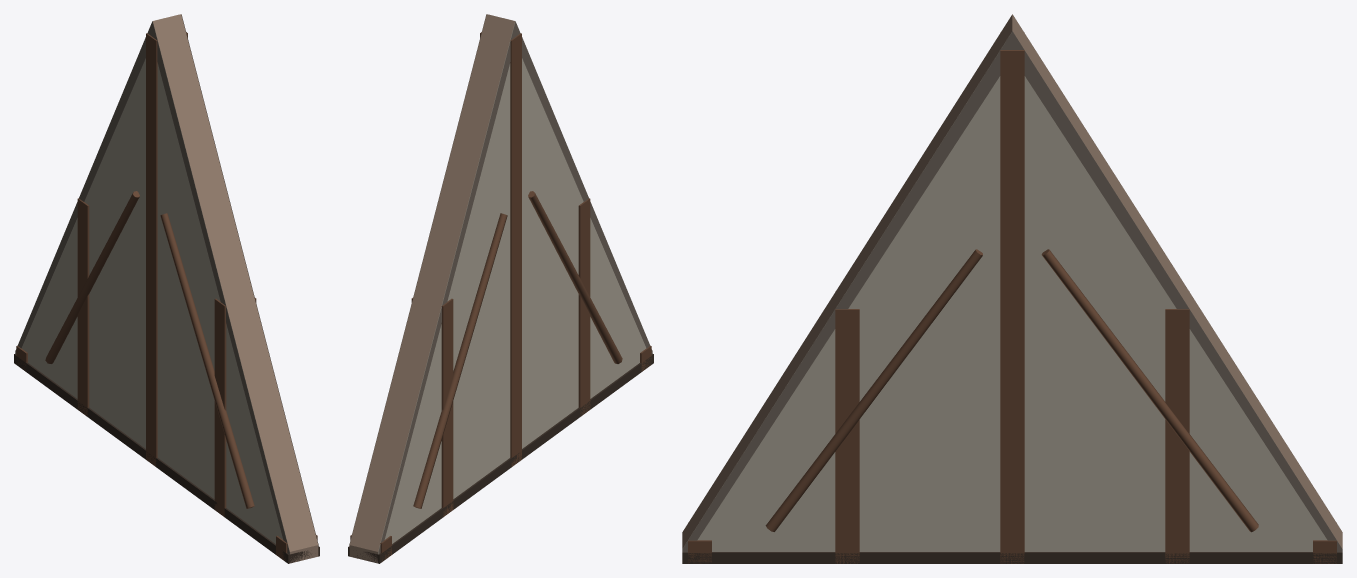
File: Wall_GableRidgeFill_60_Left.glb
3 renders of one model, left to right at view 1: azimuth 30°, elevation 25°; view 2: azimuth 150°, elevation 25°; view 3: azimuth 270°, elevation 25°, orthographic. The views are drawn at different scales.
Parts seen in each view (by area): view 1: _MeshInstance3D_4047, _MeshInstance3D_4051, _MeshInstance3D_4048, _MeshInstance3D_4056, _MeshInstance3D_4050, _MeshInstance3D_4052, _MeshInstance3D_4054; view 2: _MeshInstance3D_4047, _MeshInstance3D_4051, _MeshInstance3D_4048, _MeshInstance3D_4054, _MeshInstance3D_4052, _MeshInstance3D_4050, _MeshInstance3D_4056; view 3: _MeshInstance3D_4047, _MeshInstance3D_4051, _MeshInstance3D_4048, _MeshInstance3D_4052, _MeshInstance3D_4050, _MeshInstance3D_4057, _MeshInstance3D_4055.
Part boxes in pixels (left/top/right/bottom): _MeshInstance3D_4047: left=15, top=14, right=318, bottom=563; _MeshInstance3D_4051: left=146, top=32, right=187, bottom=466; _MeshInstance3D_4048: left=14, top=354, right=319, bottom=563; _MeshInstance3D_4056: left=160, top=213, right=254, bottom=508; _MeshInstance3D_4050: left=77, top=198, right=89, bottom=416; _MeshInstance3D_4052: left=214, top=298, right=256, bottom=516; _MeshInstance3D_4054: left=45, top=191, right=139, bottom=363; _MeshInstance3D_4047: left=349, top=14, right=652, bottom=563; _MeshInstance3D_4051: left=480, top=32, right=521, bottom=466; _MeshInstance3D_4048: left=348, top=354, right=653, bottom=563; _MeshInstance3D_4054: left=413, top=213, right=507, bottom=508; _MeshInstance3D_4052: left=578, top=198, right=590, bottom=416; _MeshInstance3D_4050: left=411, top=298, right=453, bottom=516; _MeshInstance3D_4056: left=528, top=191, right=622, bottom=363; _MeshInstance3D_4047: left=682, top=14, right=1342, bottom=552; _MeshInstance3D_4051: left=1000, top=32, right=1024, bottom=563; _MeshInstance3D_4048: left=682, top=552, right=1342, bottom=563; _MeshInstance3D_4052: left=835, top=291, right=859, bottom=563; _MeshInstance3D_4050: left=1165, top=291, right=1189, bottom=563; _MeshInstance3D_4057: left=765, top=249, right=982, bottom=531; _MeshInstance3D_4055: left=1041, top=249, right=1258, bottom=532.
Size of the model in its own units: 0.2607 by 2.67 by 3.
